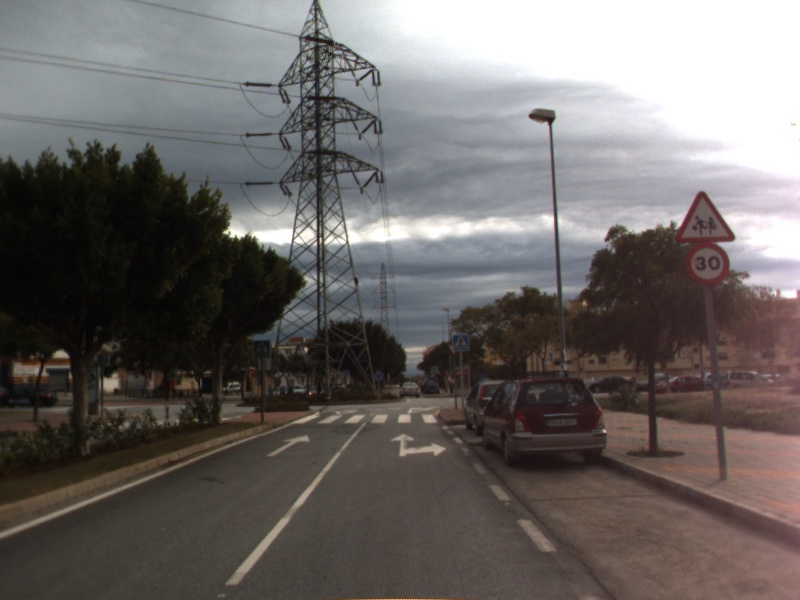STRAIGHT: (263, 433, 312, 458)
STRAIGHT_RIGHT: (387, 431, 448, 458)
